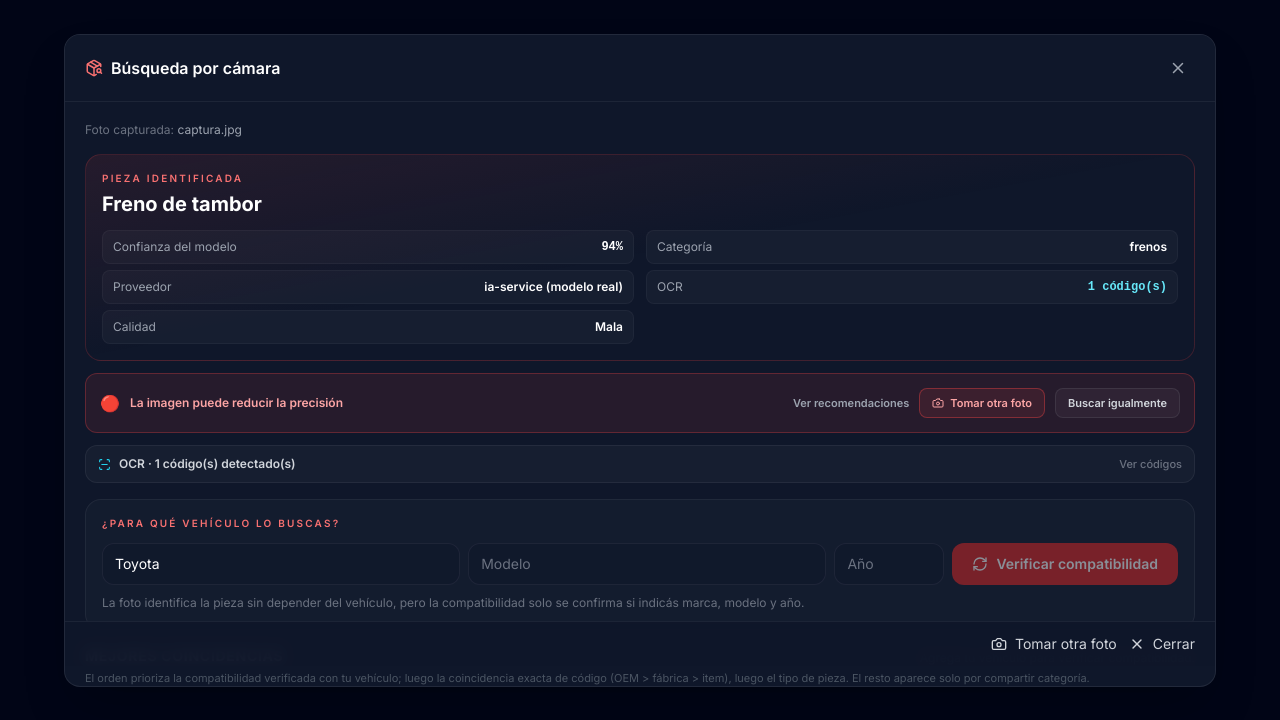
Test case: MODO ESCANEO INTELIGENTE — calidad de imagen › muestra el veredicto compacto y expande las recomendaciones
Expected: the element with test id "vision-calidad-badge" is shown, [85, 372, 1195, 433]
Expected: the text "La imagen puede reducir la precisión" is shown, [130, 395, 343, 411]
Click the button "Ver recomendaciones" at (851, 403), box [793, 394, 909, 411]
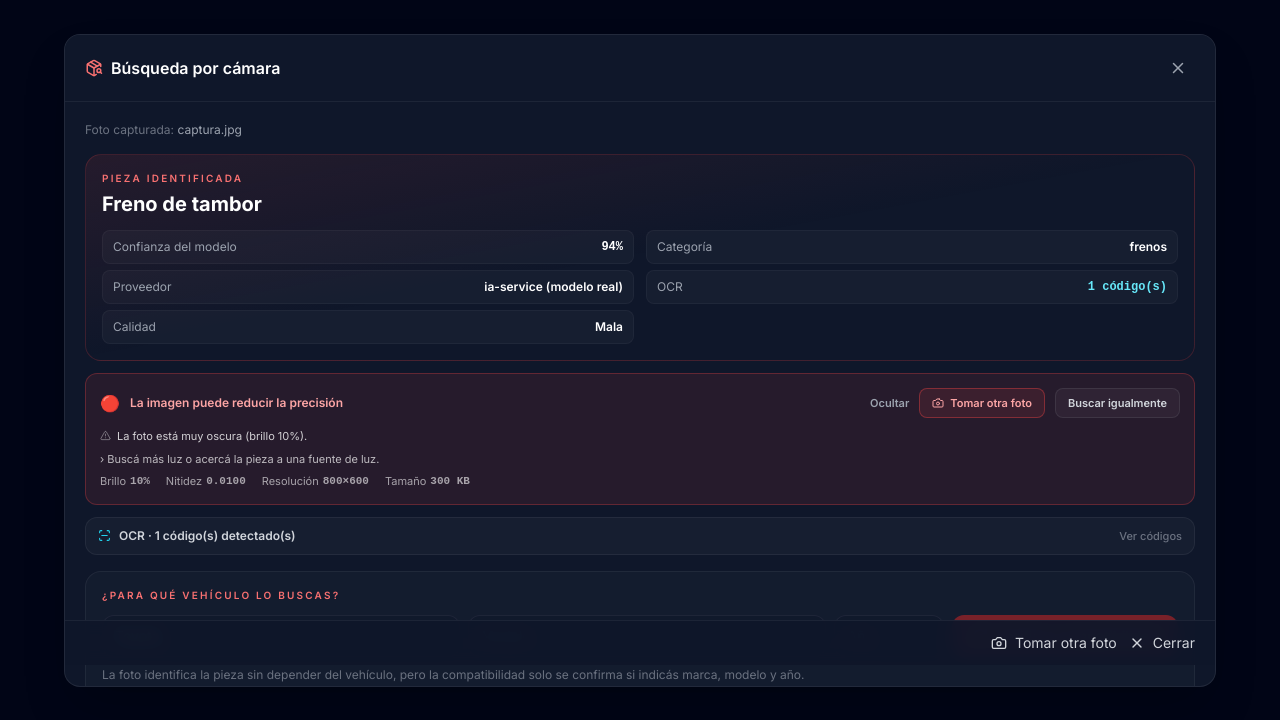
Expected: the text "La foto está muy oscura (brillo 10%)." is shown, [117, 428, 307, 444]
